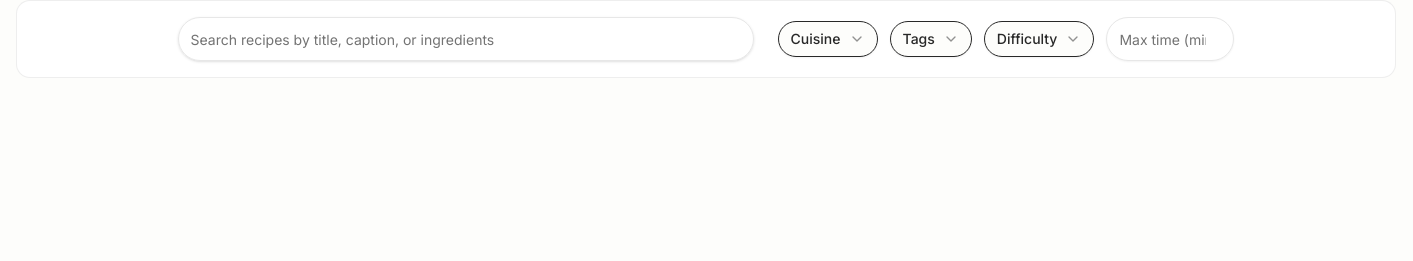
FilterBar › cuisine filter › should open cuisine dropdown on button click
This screenshot has width=1413, height=261.
Click the button with test id "cuisine-filter-trigger": point(828, 39) [778, 21, 878, 57]
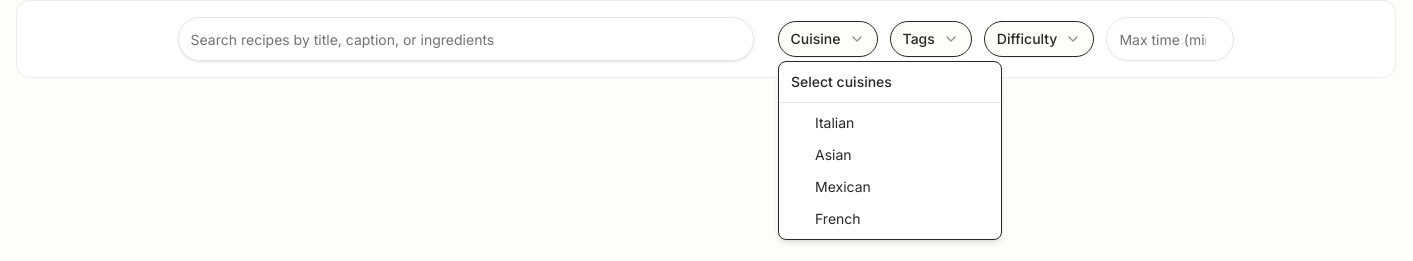
Now the menu item "Italian" is shown, box [815, 114, 854, 131]
Now the menu item "Asian" is shown, box [815, 146, 852, 163]
Now the menu item "Mexican" is shown, box [815, 178, 871, 195]
